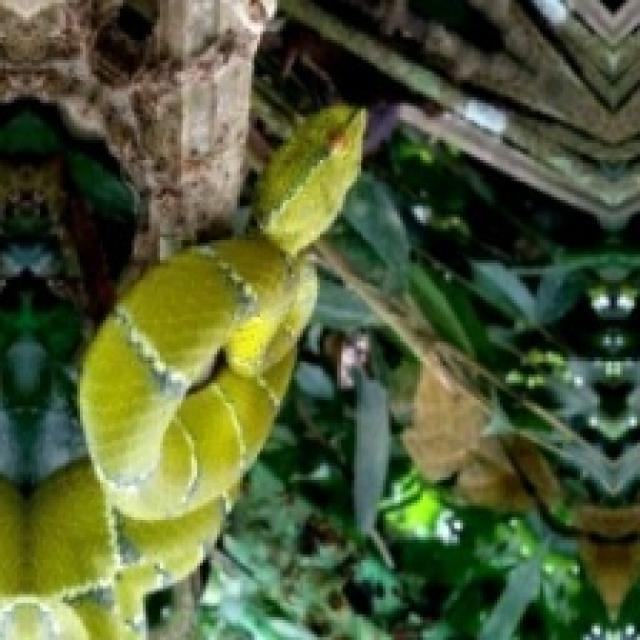north ph temple pitviper: (0, 106, 363, 637)
